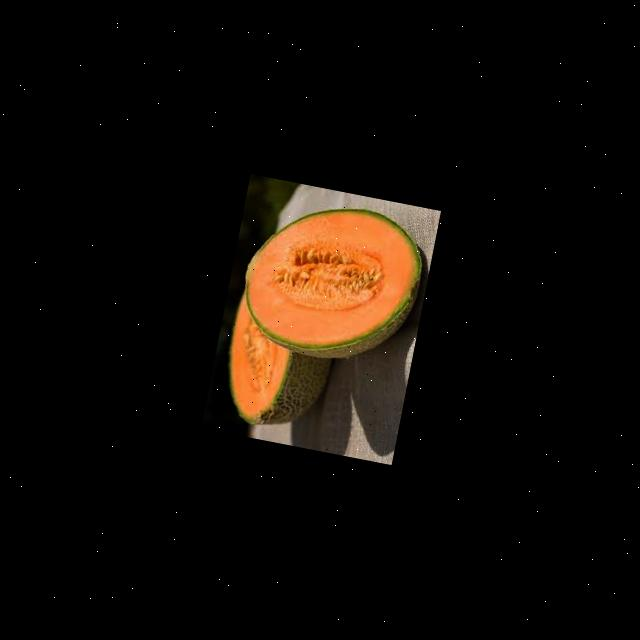Hami Melon: (233, 192, 431, 372), (215, 298, 338, 438)
